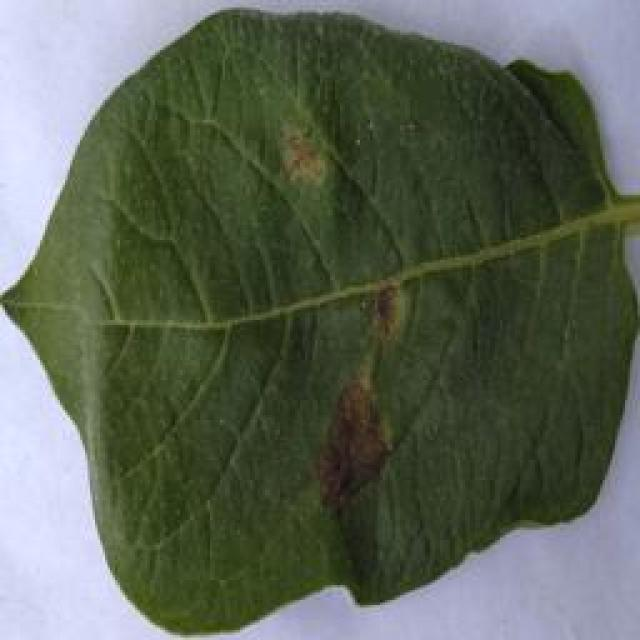Potato_Late_Blight: (8, 4, 635, 630)
